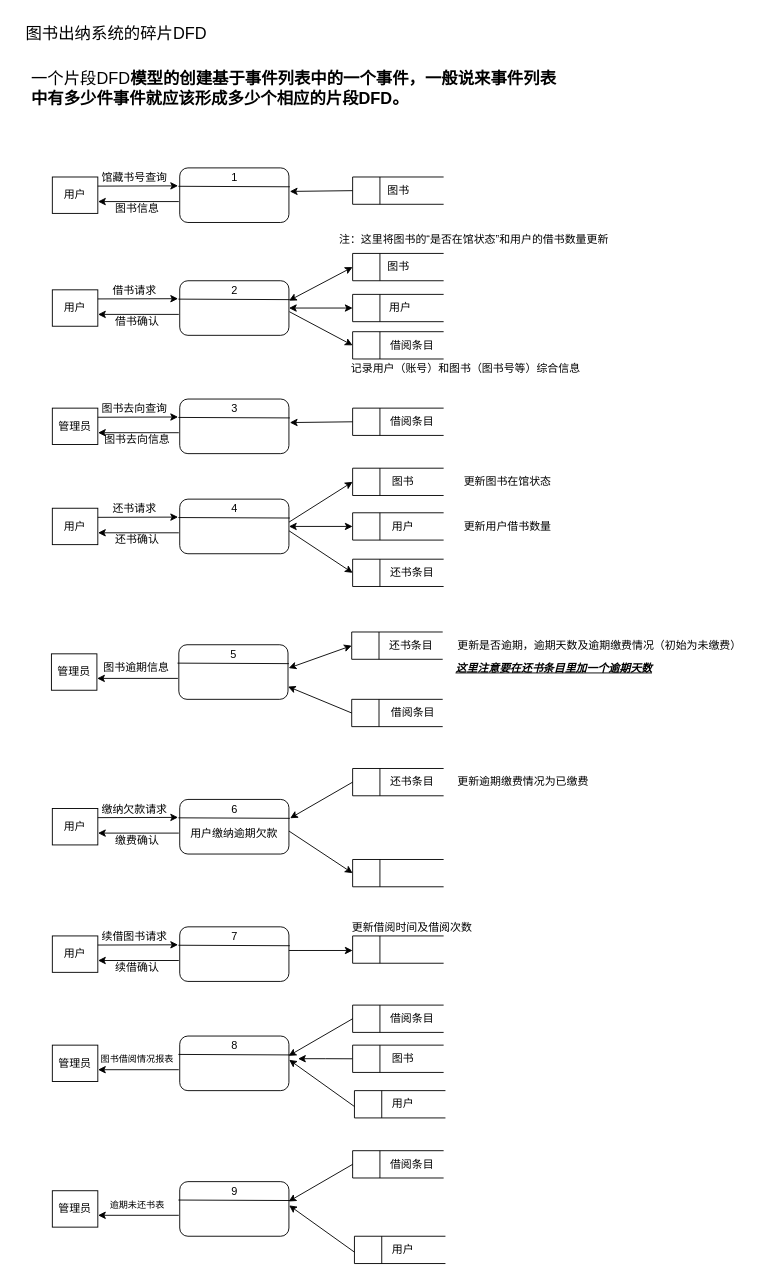
This 769x1279 diagram has some shape labels left out. The box of each missing label's shape, as (x1, y1, x2, y2) in pixels:
借书条目: (352, 935, 444, 963)
检查归还是否逾期: (178, 644, 288, 699)
生成图书借阅情况报表: (179, 1035, 289, 1091)
生成月末逾期未还书表: (179, 1181, 289, 1236)
用户借书: (179, 280, 289, 335)
用户查询馆藏书号: (179, 167, 289, 222)
用户续借图书: (179, 926, 289, 981)
用户还书: (179, 498, 289, 554)
管理员查询图书去向: (179, 398, 289, 454)
缴费条目: (352, 859, 444, 887)
